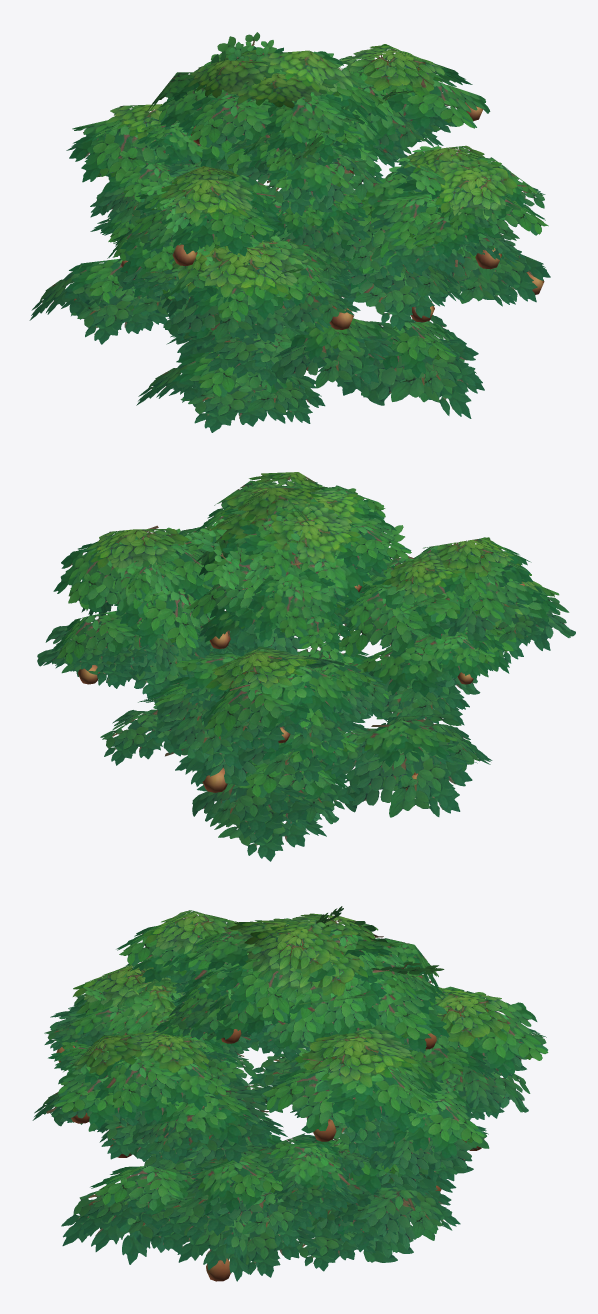
Rendered from scene_lawennushandao_tree02a.FBX.
3 views of the same model, one above another, from view 1: azimuth 30°, elevation 25°; view 2: azimuth 150°, elevation 25°; view 3: azimuth 270°, elevation 25° (orthographic). The views are drawn at different scales.
Parts seen in each view (by area): view 1: scene_lawennushandao_tree02a; view 2: scene_lawennushandao_tree02a; view 3: scene_lawennushandao_tree02a.
Boxes of the visible parts, <box> form: scene_lawennushandao_tree02a: <box>29,32,550,432</box>; scene_lawennushandao_tree02a: <box>37,472,575,861</box>; scene_lawennushandao_tree02a: <box>32,906,548,1281</box>.
Bounding box in the file's own units: 695 × 480 × 710.
